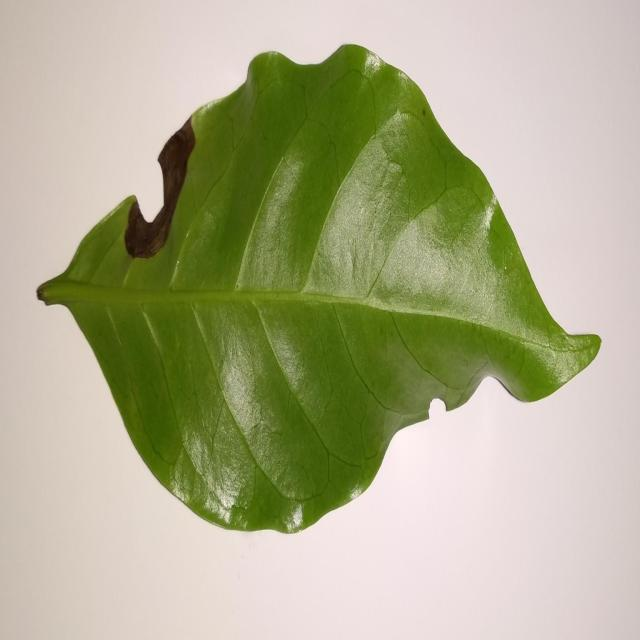phoma: (125, 118, 195, 258)
